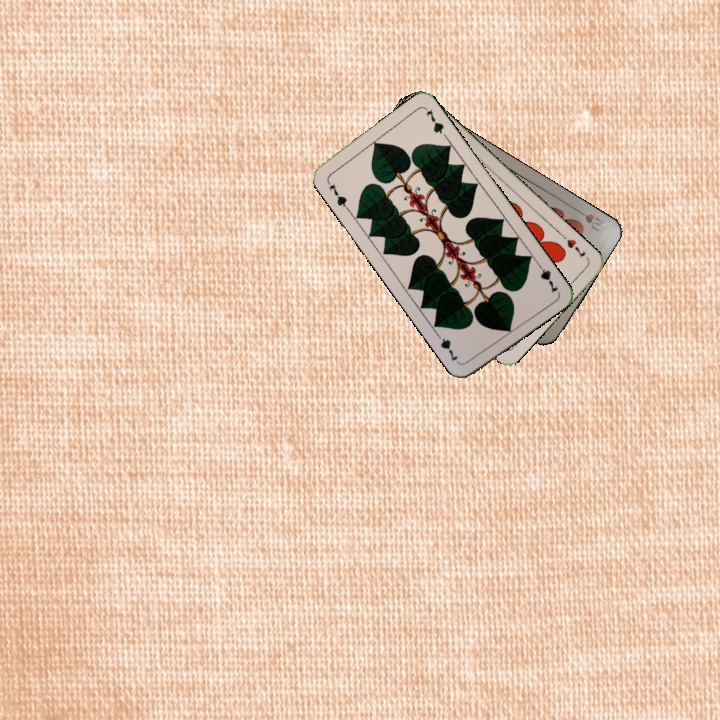G7: (532, 258, 561, 296), (325, 179, 351, 212)
H10: (571, 205, 610, 235)
H7: (563, 235, 588, 261)
